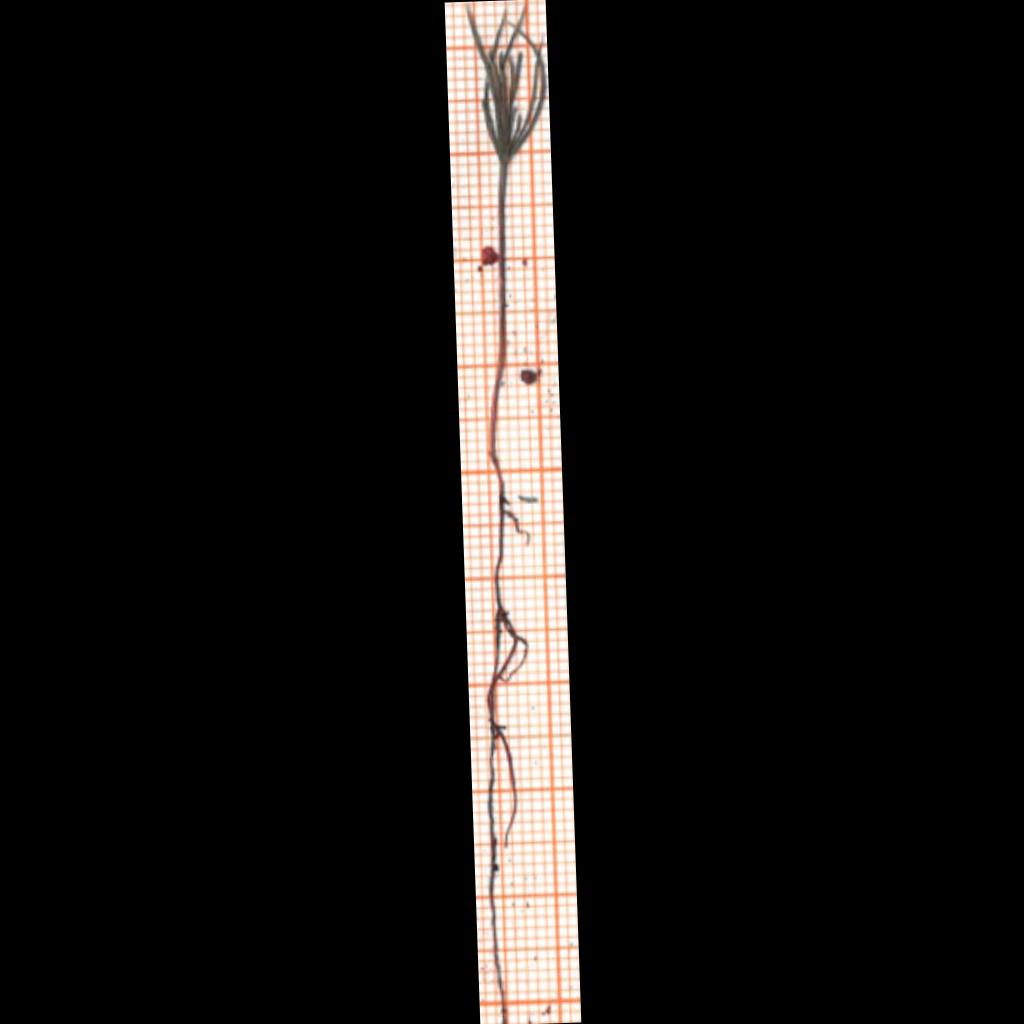flowerPinus: (468, 6, 547, 166)
rootPinus: (488, 499, 526, 1023)
stemPinus: (490, 171, 507, 497)
